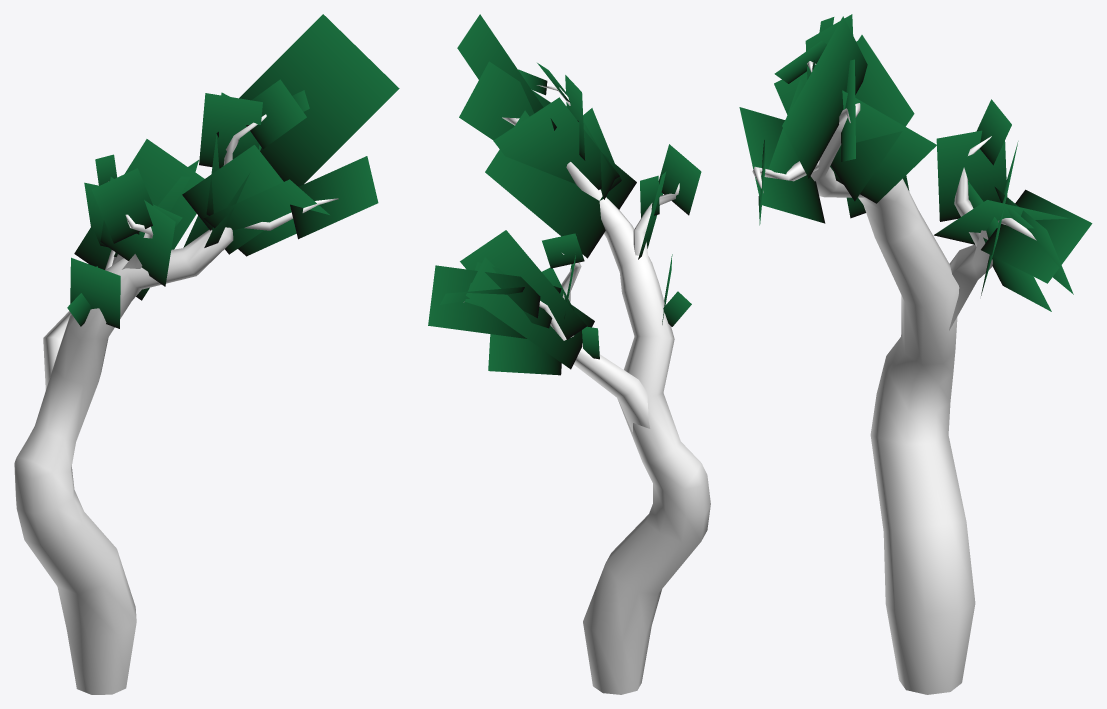
Rendered from SM_TreeWindsweptSapling01.fbx.
3 views of the same model, side by side, from view 1: azimuth 30°, elevation 25°; view 2: azimuth 150°, elevation 25°; view 3: azimuth 270°, elevation 25° (orthographic). The views are drawn at different scales.
Visible parts, largest first — view 1: SM_TreeWindsweptSapling01_LOD0; view 2: SM_TreeWindsweptSapling01_LOD0; view 3: SM_TreeWindsweptSapling01_LOD0.
Boxes of the visible parts, left/top/right/bottom form: SM_TreeWindsweptSapling01_LOD0: left=14, top=14, right=399, bottom=694; SM_TreeWindsweptSapling01_LOD0: left=428, top=14, right=710, bottom=694; SM_TreeWindsweptSapling01_LOD0: left=739, top=14, right=1092, bottom=694.
Bounding box in the file's own units: 247 × 473 × 196.
